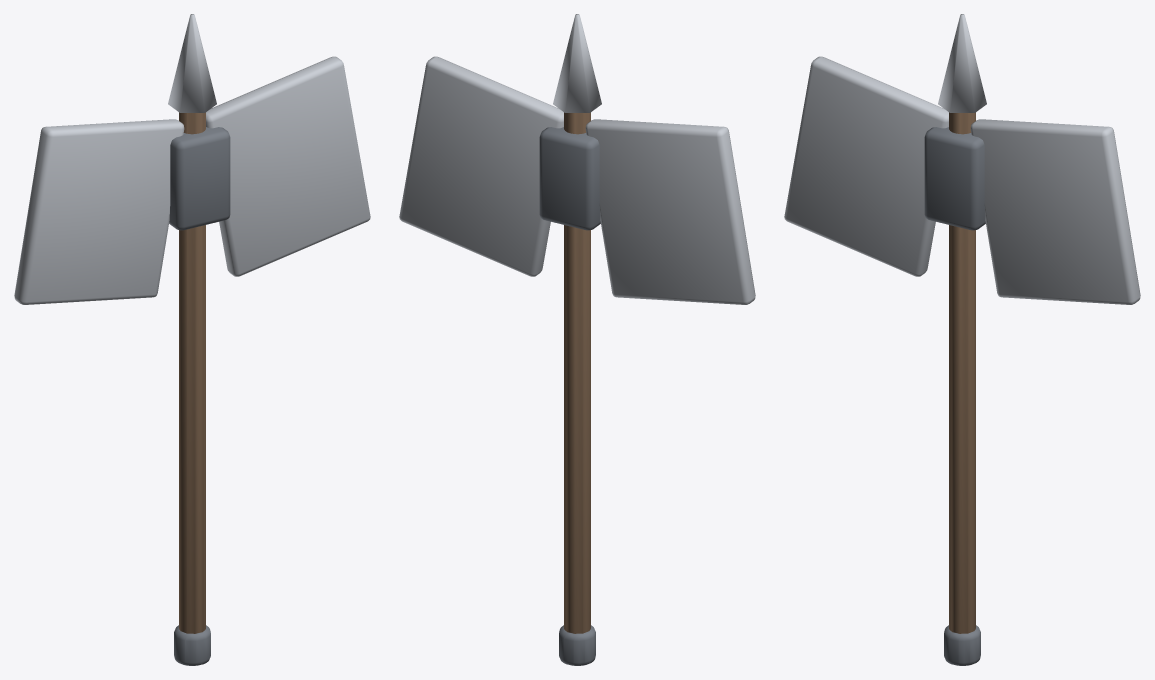
The model's file is war_axe.glb.
3 renders of one model, left to right at view 1: azimuth 30°, elevation 25°; view 2: azimuth 150°, elevation 25°; view 3: azimuth 330°, elevation 25°, orthographic.
Parts seen in each view (by area): view 1: AxeBladeL, AxeBladeR, Haft, AxeSocket, TopSpike, ButtCap; view 2: AxeBladeL, AxeBladeR, Haft, AxeSocket, TopSpike, ButtCap; view 3: AxeBladeR, AxeBladeL, Haft, AxeSocket, TopSpike, ButtCap.
Boxes of the visible parts, x1=… form: AxeBladeL: x1=14, y1=119, x2=184, y2=304; AxeBladeR: x1=206, y1=56, x2=370, y2=276; Haft: x1=179, y1=112, x2=205, y2=633; AxeSocket: x1=169, y1=127, x2=230, y2=230; TopSpike: x1=168, y1=14, x2=216, y2=112; ButtCap: x1=174, y1=625, x2=210, y2=665; AxeBladeL: x1=585, y1=119, x2=755, y2=304; AxeBladeR: x1=399, y1=56, x2=563, y2=276; Haft: x1=564, y1=112, x2=590, y2=633; AxeSocket: x1=539, y1=127, x2=600, y2=230; TopSpike: x1=553, y1=14, x2=601, y2=112; ButtCap: x1=559, y1=625, x2=595, y2=665; AxeBladeR: x1=970, y1=119, x2=1140, y2=304; AxeBladeL: x1=784, y1=56, x2=948, y2=276; Haft: x1=949, y1=112, x2=975, y2=633; AxeSocket: x1=924, y1=127, x2=985, y2=230; TopSpike: x1=938, y1=14, x2=986, y2=112; ButtCap: x1=944, y1=625, x2=980, y2=665.
Bounding box in the file's own units: 0.9033 × 1.59 × 0.12.
